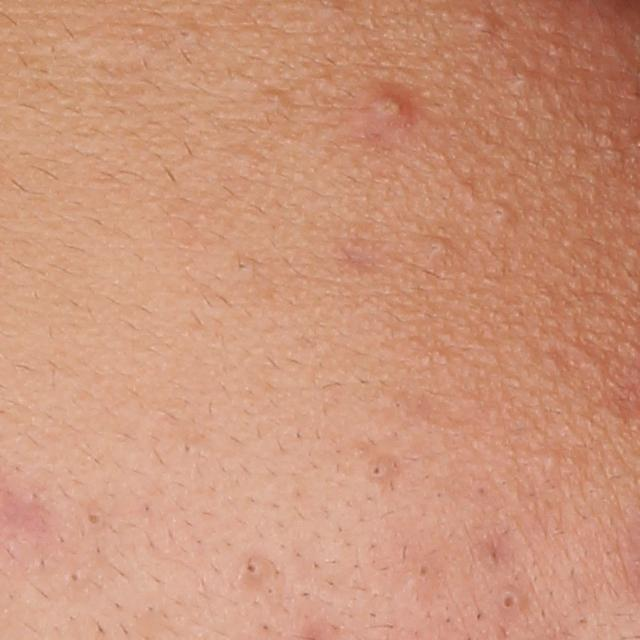comedo: (491, 586, 527, 621), (238, 551, 267, 583), (485, 201, 515, 229), (468, 11, 500, 37), (170, 21, 204, 44), (426, 233, 453, 260), (228, 253, 254, 280), (83, 506, 107, 535), (413, 557, 436, 585), (365, 458, 390, 483), (511, 70, 534, 93)
pustule: (363, 91, 407, 127)
